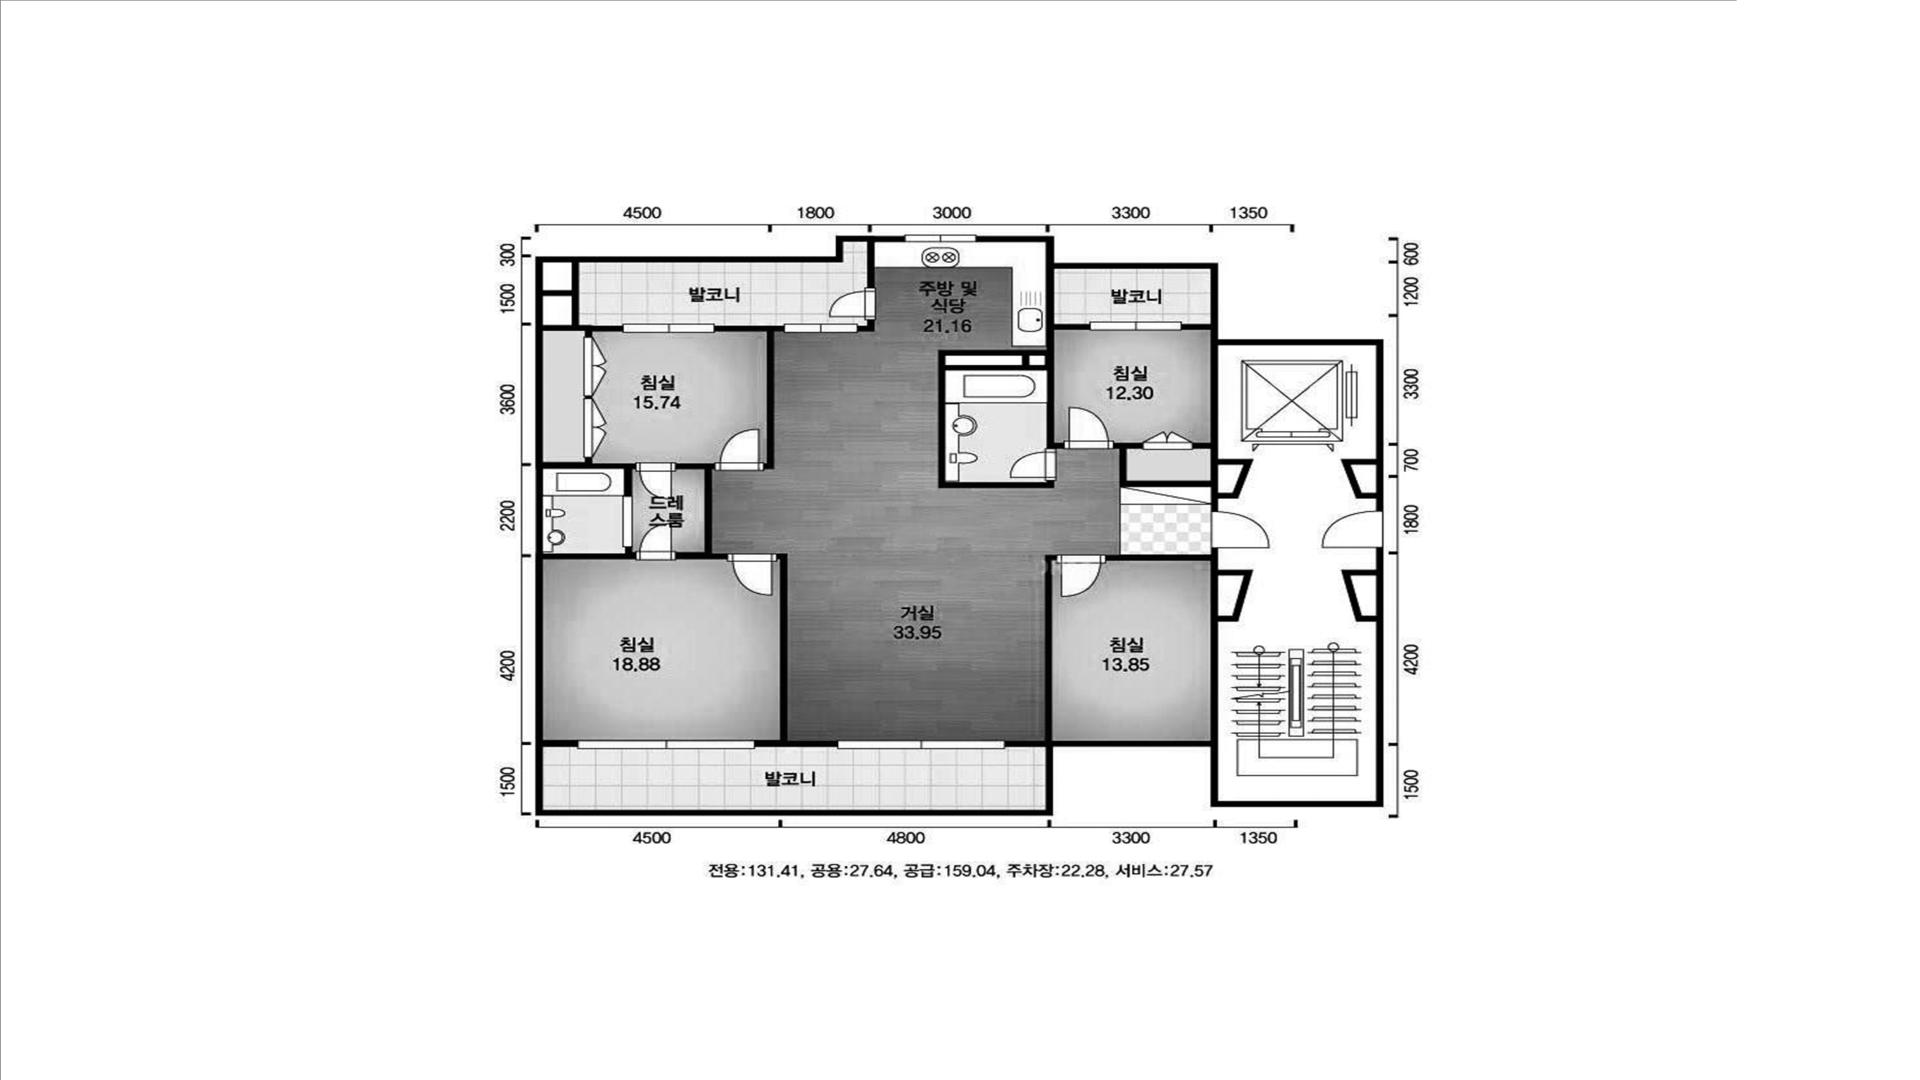door: (1211, 510, 1270, 549), (1063, 406, 1116, 448), (716, 427, 765, 471), (1058, 555, 1106, 599), (728, 554, 777, 596), (1009, 448, 1056, 481), (828, 287, 876, 320), (637, 522, 676, 560), (636, 463, 676, 500), (624, 496, 633, 547)
wall: (535, 236, 1383, 816), (938, 269, 1091, 488), (1106, 549, 1254, 741), (1114, 344, 1254, 512), (754, 554, 837, 749), (715, 324, 785, 471), (543, 262, 622, 338), (676, 463, 728, 560), (543, 458, 636, 497), (1044, 554, 1058, 741), (1340, 570, 1375, 622), (1340, 459, 1375, 498), (543, 547, 637, 560), (1218, 576, 1244, 616), (865, 241, 876, 287), (1005, 740, 1046, 748), (543, 740, 578, 749), (1182, 323, 1211, 331), (857, 320, 876, 332)
window: (578, 740, 756, 749), (837, 740, 1005, 749), (622, 324, 715, 332), (1091, 323, 1182, 331), (783, 324, 857, 332), (905, 236, 976, 243)
